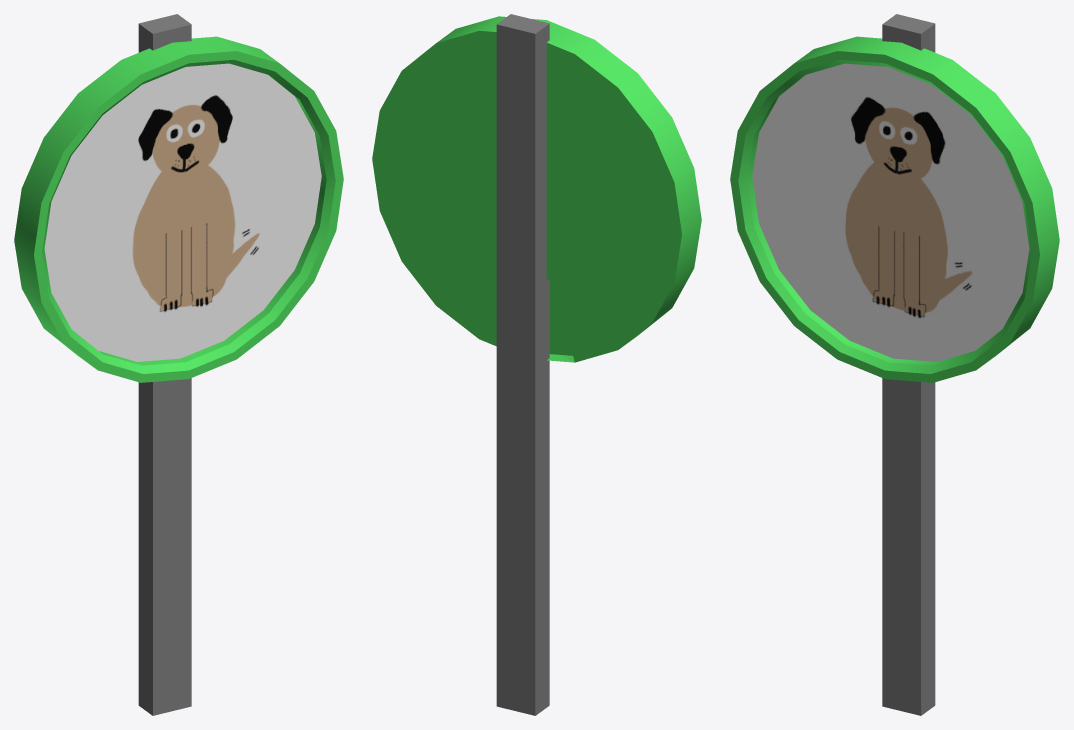
Rendered from yesdogs_sign.fbx.
3 views of the same model, side by side, from view 1: azimuth 30°, elevation 25°; view 2: azimuth 150°, elevation 25°; view 3: azimuth 330°, elevation 25° (orthographic).
Visible parts, largest first — view 1: yesdogs_sign, pCube5; view 2: yesdogs_sign, pCube5; view 3: yesdogs_sign, pCube5.
Boxes of the visible parts, x1=… form: yesdogs_sign: x1=14, y1=36, x2=343, y2=382; pCube5: x1=138, y1=14, x2=191, y2=715; yesdogs_sign: x1=372, y1=16, x2=701, y2=362; pCube5: x1=496, y1=14, x2=549, y2=715; yesdogs_sign: x1=730, y1=36, x2=1059, y2=382; pCube5: x1=882, y1=14, x2=935, y2=715.
Size of the model in its own units: 7.96 by 16.75 by 1.37.
Materials: 3 (1 with a texture image).
